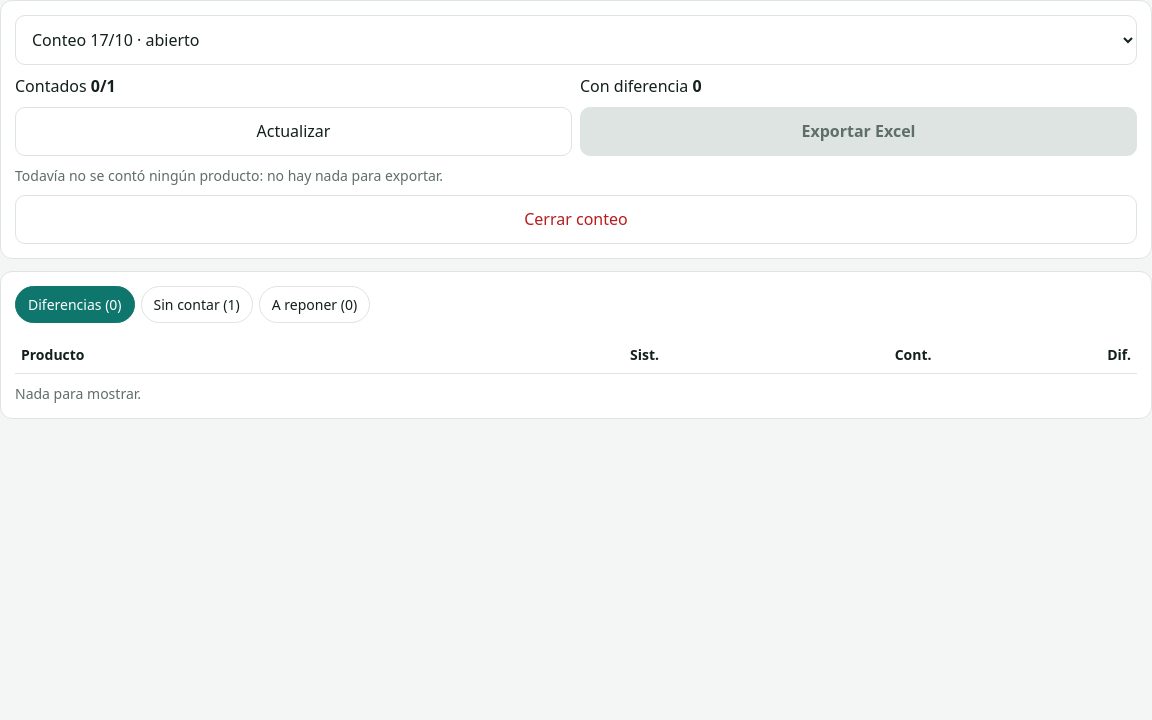
Test: Reportes · botón Exportar Excel › cerrar un conteo vacío: pide confirmación avisando que está vacío y luego informa que se cerró sin productos
Click the button "Cerrar conteo" at (576, 220), box [15, 195, 1137, 244]
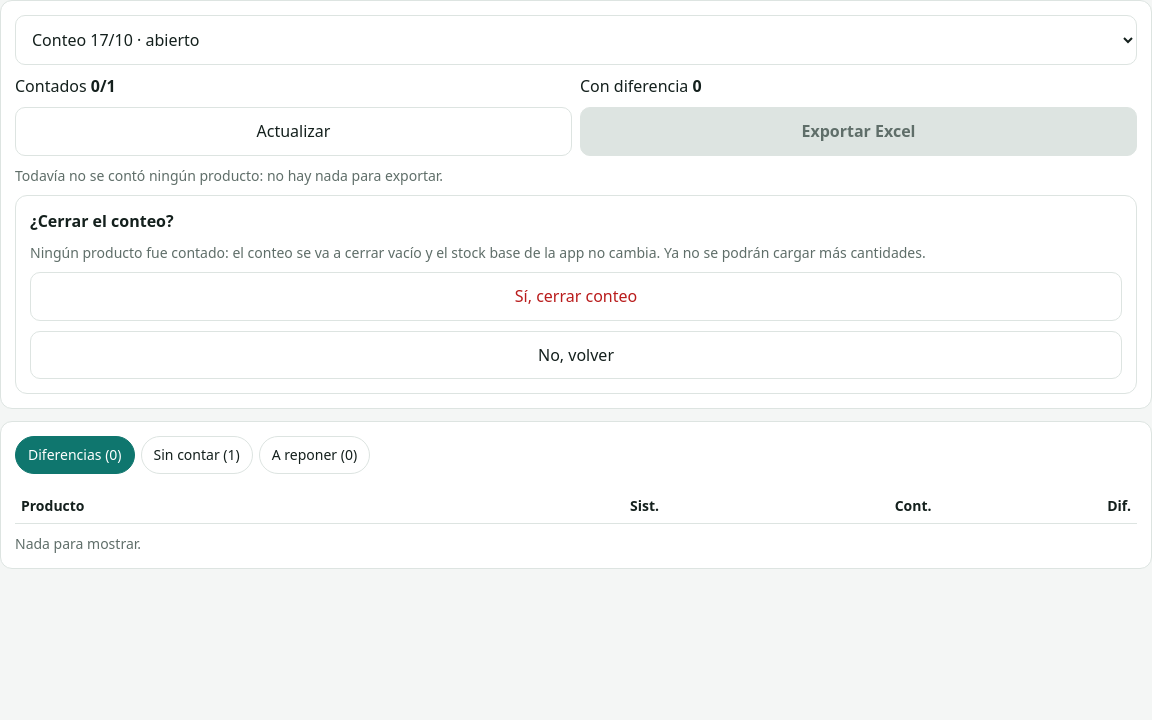
Now the text "Ningún producto fue contado" is shown, box [30, 243, 926, 262]
Click the button "Sí, cerrar conteo" at (576, 297), box [30, 272, 1122, 321]
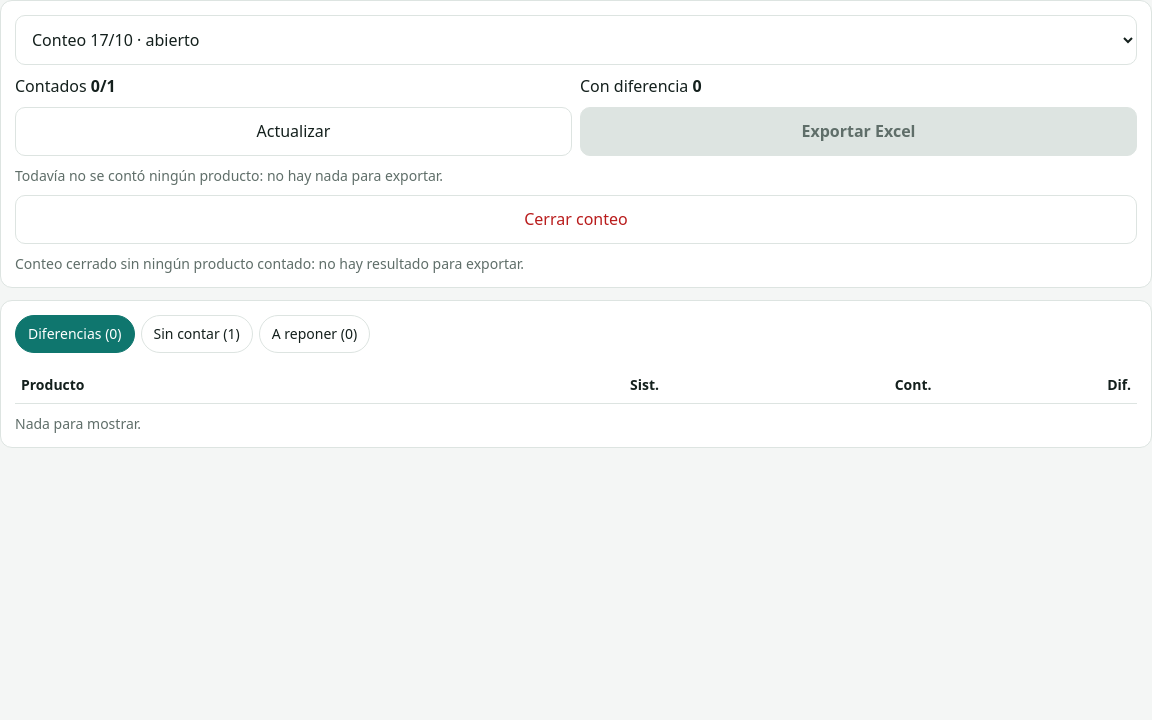
Now the text "Conteo cerrado sin ningún producto contado" is shown, box [15, 254, 524, 273]
